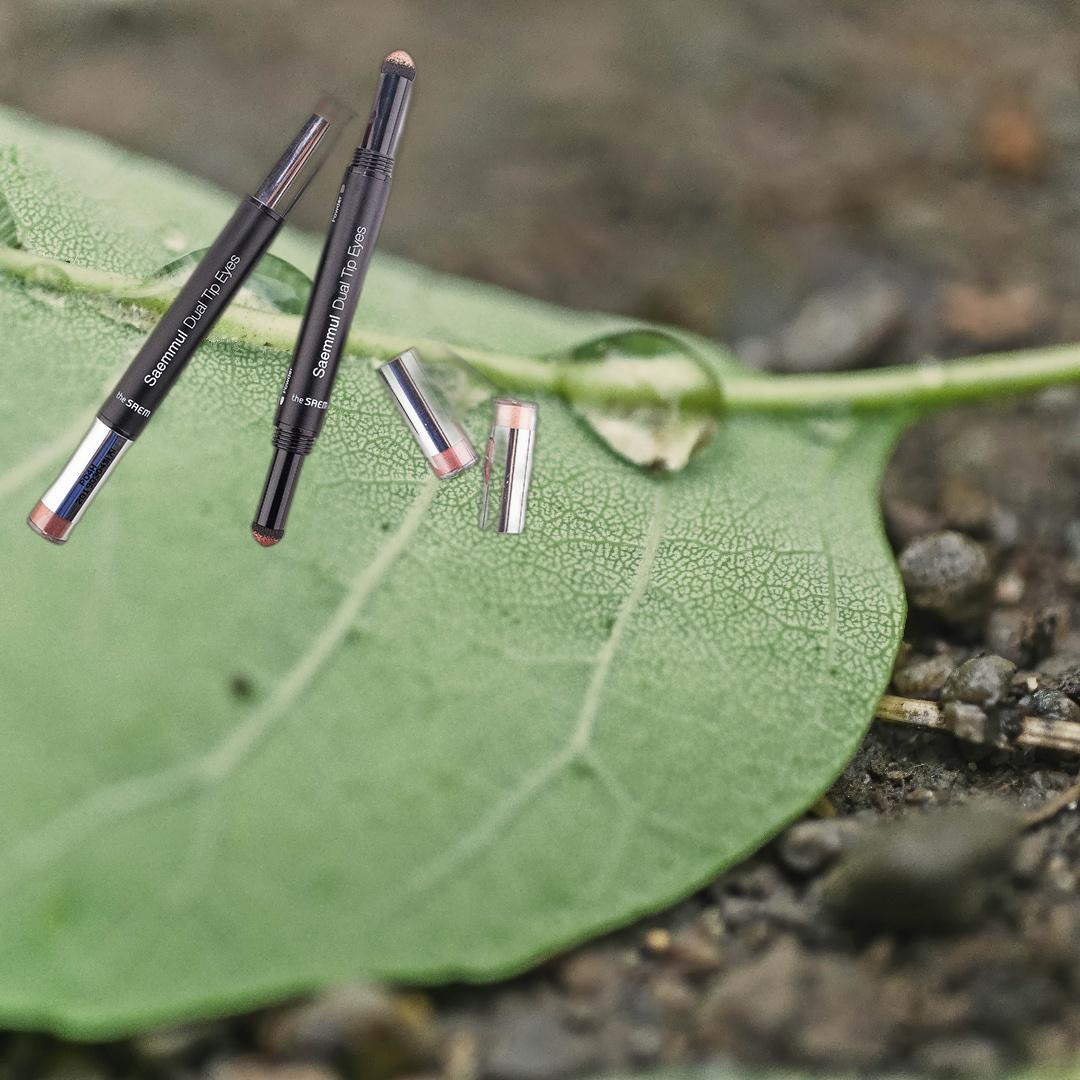penholder: (22, 45, 550, 552)
